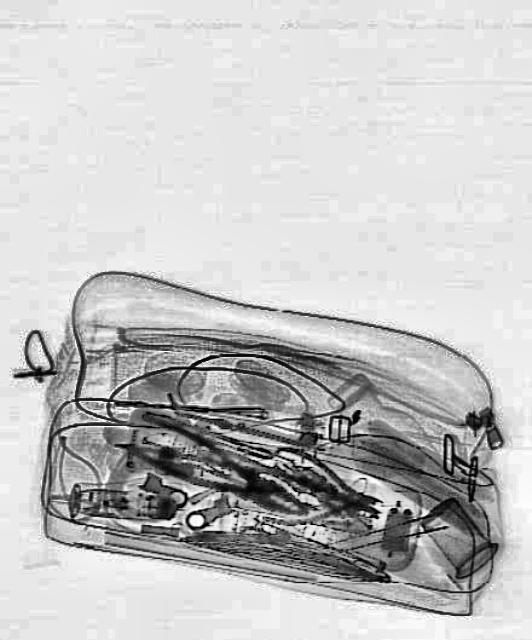Pliers: (125, 407, 317, 538), (261, 444, 392, 548)
